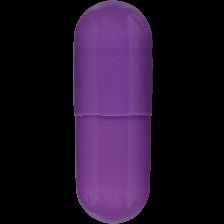68462-231: (0, 0, 224, 224)
